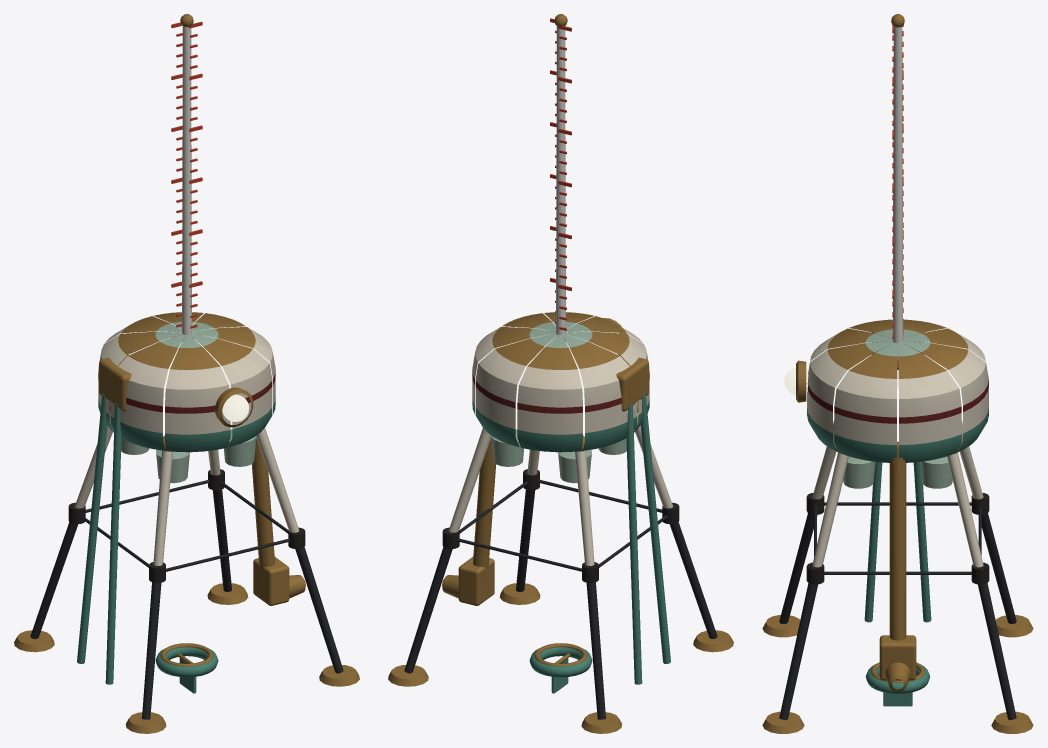
The model's file is gauge-static.glb.
The picture shows the model from 3 angles, left to right: view 1: azimuth 30°, elevation 25°; view 2: azimuth 150°, elevation 25°; view 3: azimuth 270°, elevation 25°; orthographic projection. The views are drawn at different scales.
Parts seen in each view (by area): view 1: gauge-body, gauge-float, gauge-lamp; view 2: gauge-body, gauge-float; view 3: gauge-body, gauge-float.
Part boxes in pixels (box(x1,y1,x2,y2)): gauge-body: box(14, 14, 359, 733); gauge-float: box(155, 643, 218, 677); gauge-lamp: box(222, 394, 249, 421); gauge-body: box(388, 14, 733, 733); gauge-float: box(529, 643, 592, 677); gauge-body: box(762, 14, 1033, 733); gauge-float: box(866, 662, 929, 693).
Bounding box in the file's own units: 4.64 × 12.99 × 4.62.
